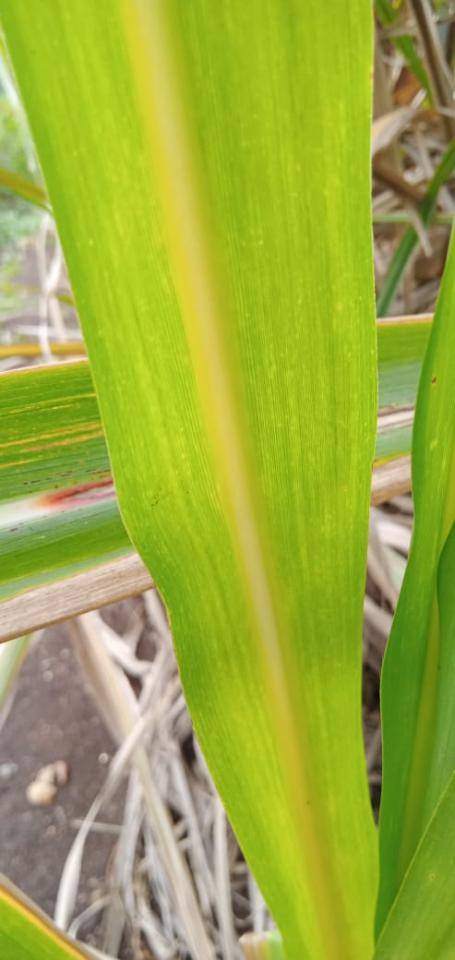RedRot: (30, 476, 116, 510)
Rust: (91, 469, 111, 475), (97, 473, 111, 479), (60, 473, 73, 478), (84, 468, 97, 473), (431, 375, 437, 385), (8, 527, 19, 532), (30, 479, 41, 484), (66, 468, 76, 473), (44, 477, 52, 481), (22, 482, 29, 486), (54, 485, 59, 490), (73, 480, 78, 485), (29, 490, 33, 494), (91, 477, 95, 481), (55, 473, 60, 476)
Yellow: (118, 0, 341, 959), (0, 553, 155, 644), (0, 872, 120, 959), (371, 454, 412, 506)
